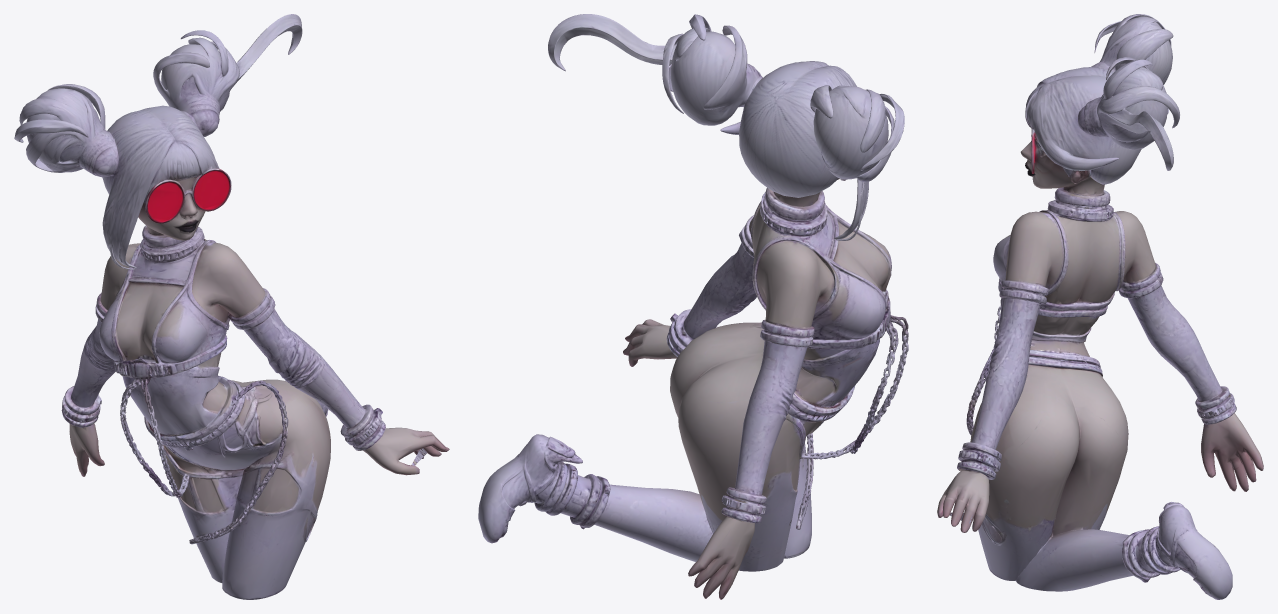
The picture shows the model from 3 angles, left to right: view 1: azimuth 30°, elevation 25°; view 2: azimuth 150°, elevation 25°; view 3: azimuth 270°, elevation 25°; orthographic projection. The views are drawn at different scales.
Parts seen in each view (by area): view 1: node_0; view 2: node_0; view 3: node_0.
Part boxes in pixels (x1,y1,x2,y2): node_0: [14, 14, 449, 599]; node_0: [478, 14, 908, 599]; node_0: [937, 14, 1263, 599].
Size of the model in its own units: 0.7356 by 1.06 by 0.6113.
Materials: 1 (1 with a texture image).
